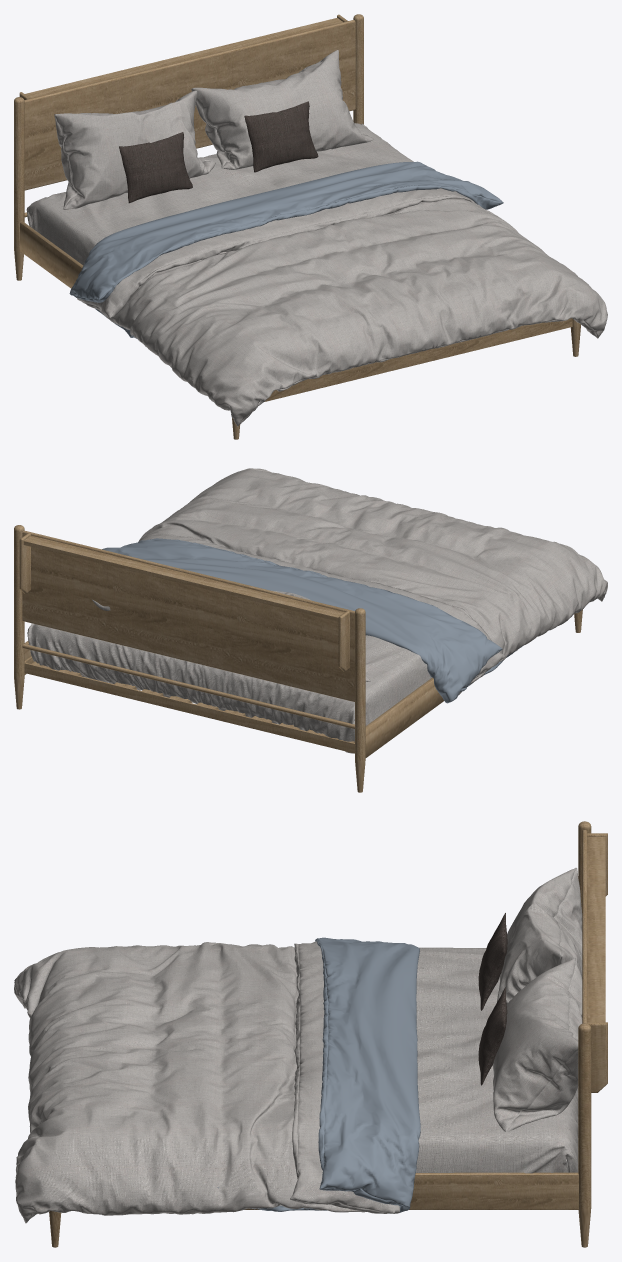
File: bed_dalgo.glb
3 renders of one model, top to bottom at view 1: azimuth 30°, elevation 25°; view 2: azimuth 150°, elevation 25°; view 3: azimuth 270°, elevation 25°, orthographic. The views are drawn at different scales.
Parts seen in each view (by area): view 1: Mesh1_Material__300w_0, Mesh2____SING________QQ___469733580___173_14_0, Mesh1_Material__611_0, Mesh52_Material_1_0; view 2: Mesh1_Material__300w_0, Mesh2____SING________QQ___469733580___173_14_0, Mesh1_Material__611_0; view 3: Mesh1_Material__300w_0, Mesh1_Material__611_0, Mesh2____SING________QQ___469733580___173_14_0, Mesh52_Material_1_0.
Part boxes in pixels (x1,y1,x2,y2): Mesh1_Material__300w_0: (26,50,607,426); Mesh2____SING________QQ___469733580___173_14_0: (14,14,580,439); Mesh1_Material__611_0: (69,161,503,340); Mesh52_Material_1_0: (119,101,318,203); Mesh1_Material__300w_0: (27,468,607,753); Mesh2____SING________QQ___469733580___173_14_0: (14,525,582,792); Mesh1_Material__611_0: (102,538,523,703); Mesh1_Material__300w_0: (14,868,582,1223); Mesh1_Material__611_0: (217,937,420,1213); Mesh2____SING________QQ___469733580___173_14_0: (49,821,607,1247); Mesh52_Material_1_0: (478,913,507,1085).
Size of the model in its own units: 22.26 by 9.5 by 23.05.
Materials: 4 (3 with a texture image).
